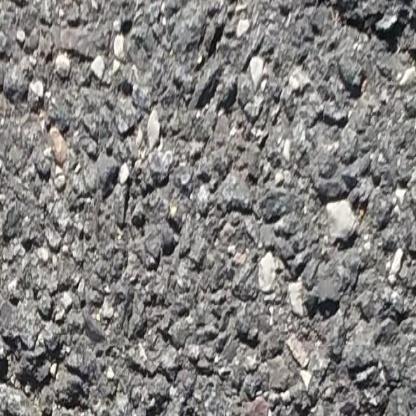Cracks: (231, 0, 416, 97), (0, 360, 69, 416), (183, 0, 231, 6)
